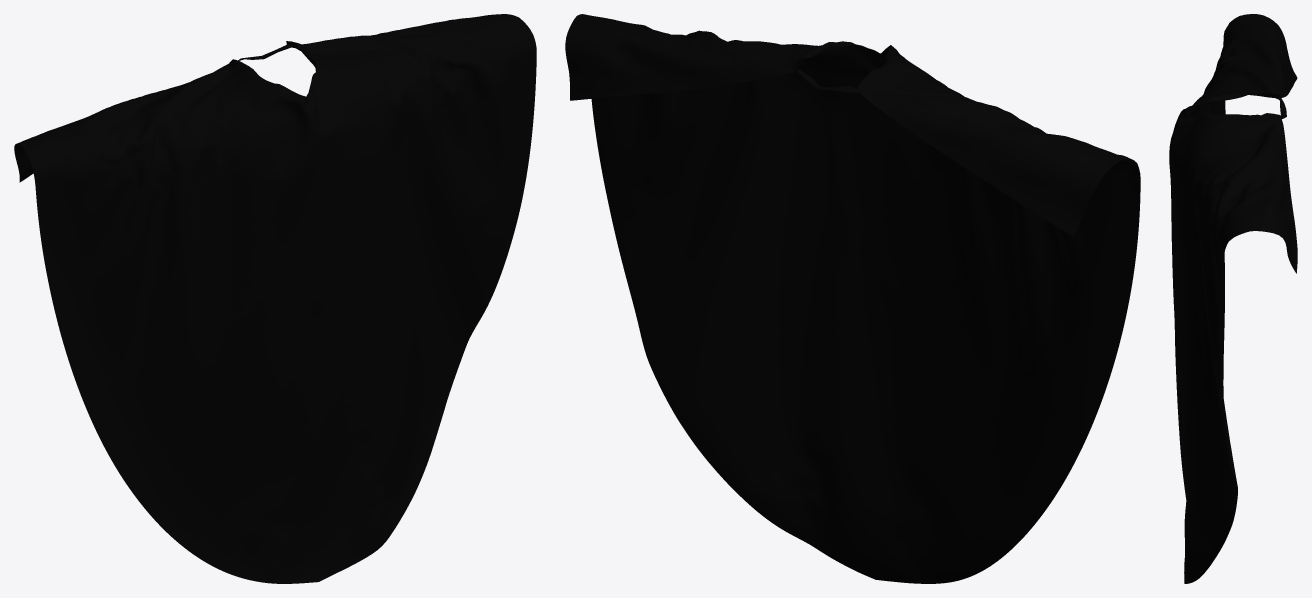
File: cloak_poor.glb
The picture shows the model from 3 angles, left to right: view 1: azimuth 30°, elevation 25°; view 2: azimuth 150°, elevation 25°; view 3: azimuth 270°, elevation 25°; orthographic projection. The views are drawn at different scales.
Visible parts, largest first — view 1: Object_3, Object_2; view 2: Object_3, Object_2; view 3: Object_3, Object_2.
Boxes of the visible parts, x1,y1,x2,y2 form: Object_3: (14, 14, 536, 583); Object_2: (14, 20, 536, 583); Object_3: (565, 14, 1140, 583); Object_2: (565, 16, 1140, 583); Object_3: (1169, 14, 1297, 583); Object_2: (1183, 14, 1297, 583).
Size of the model in its own units: 888 by 849 by 210.
Materials: 1 (1 with a texture image).
